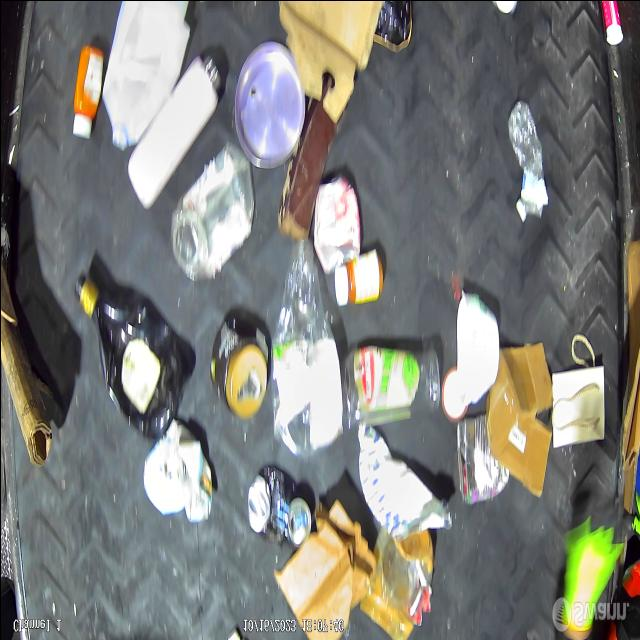can: (248, 466, 310, 546), (454, 417, 504, 503)
milk_jug: (102, 0, 188, 149)
plastic_bottle: (506, 100, 546, 217)
